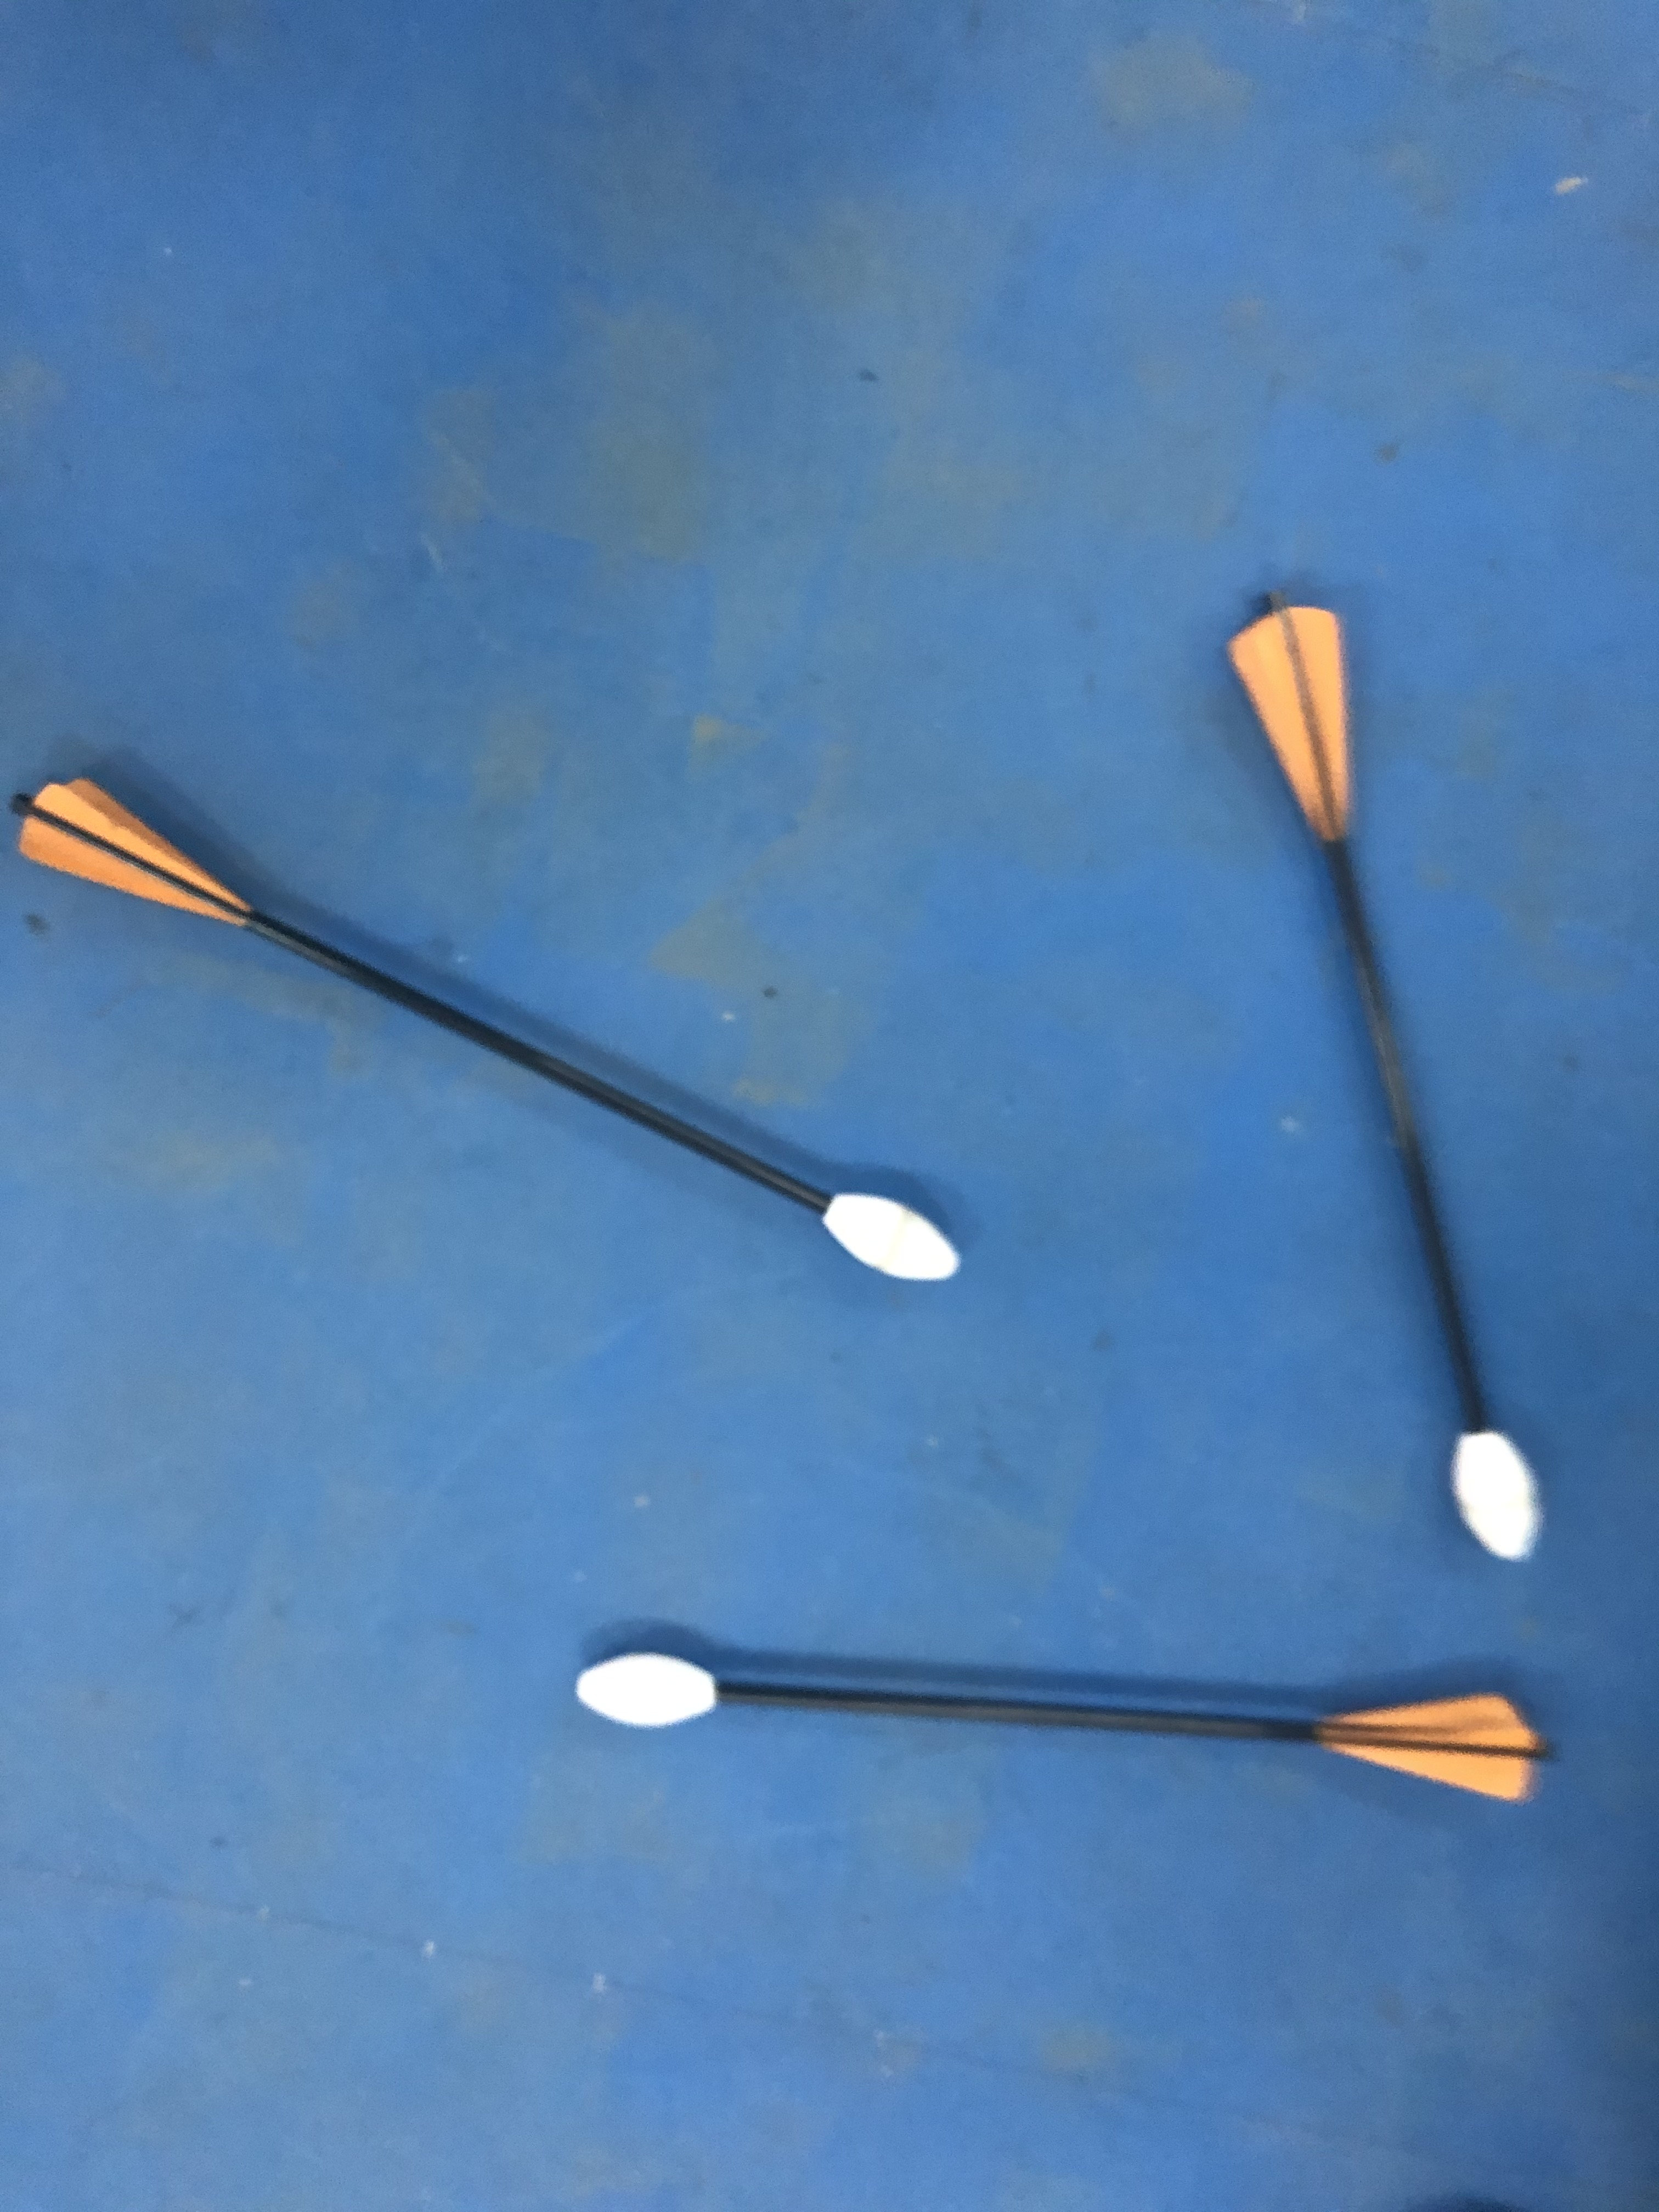arrow: (7, 756, 969, 1287), (1222, 580, 1542, 1564), (573, 1611, 1553, 1848)
arrowFront: (817, 1186, 962, 1292), (1443, 1425, 1546, 1569), (572, 1646, 728, 1735)
